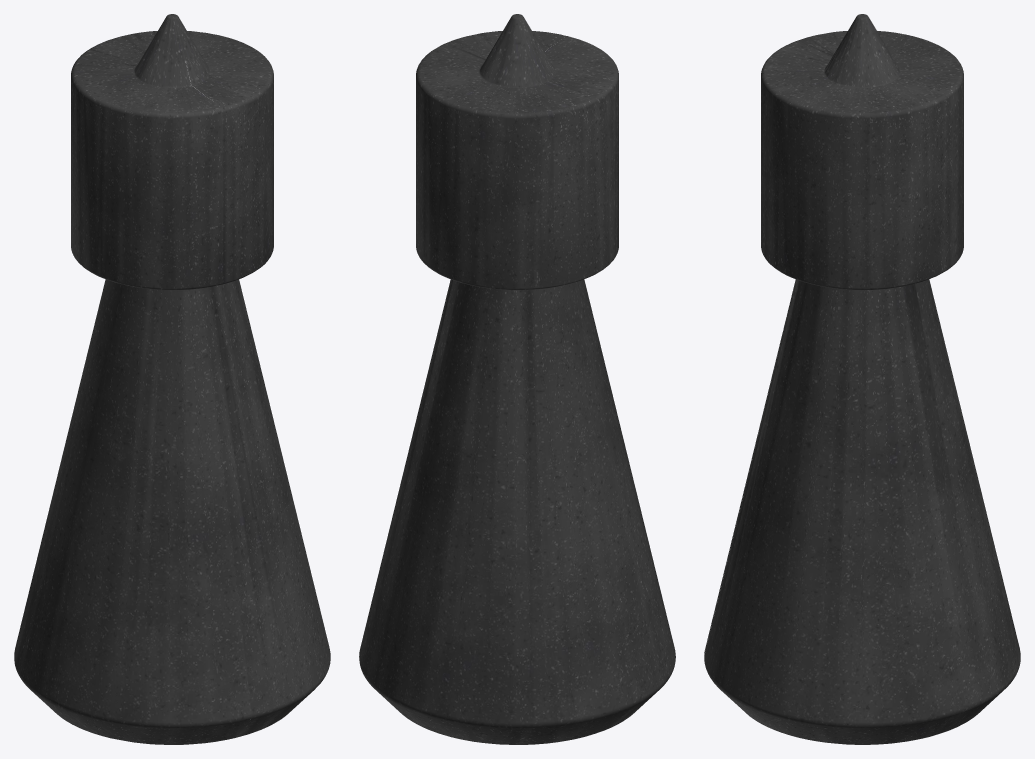
Rendered from queen-black.glb.
The picture shows the model from 3 angles, left to right: view 1: azimuth 30°, elevation 25°; view 2: azimuth 150°, elevation 25°; view 3: azimuth 270°, elevation 25°; orthographic projection.
Parts seen in each view (by area): view 1: 02_dama_cerna; view 2: 02_dama_cerna; view 3: 02_dama_cerna.
Part boxes in pixels (left/top/right/bottom): 02_dama_cerna: left=14, top=14, right=330, bottom=744; 02_dama_cerna: left=359, top=14, right=675, bottom=744; 02_dama_cerna: left=704, top=14, right=1020, bottom=744.
Bounding box in the file's own units: 0.6496 × 1.53 × 0.6498.
Materials: 1 (1 with a texture image).
